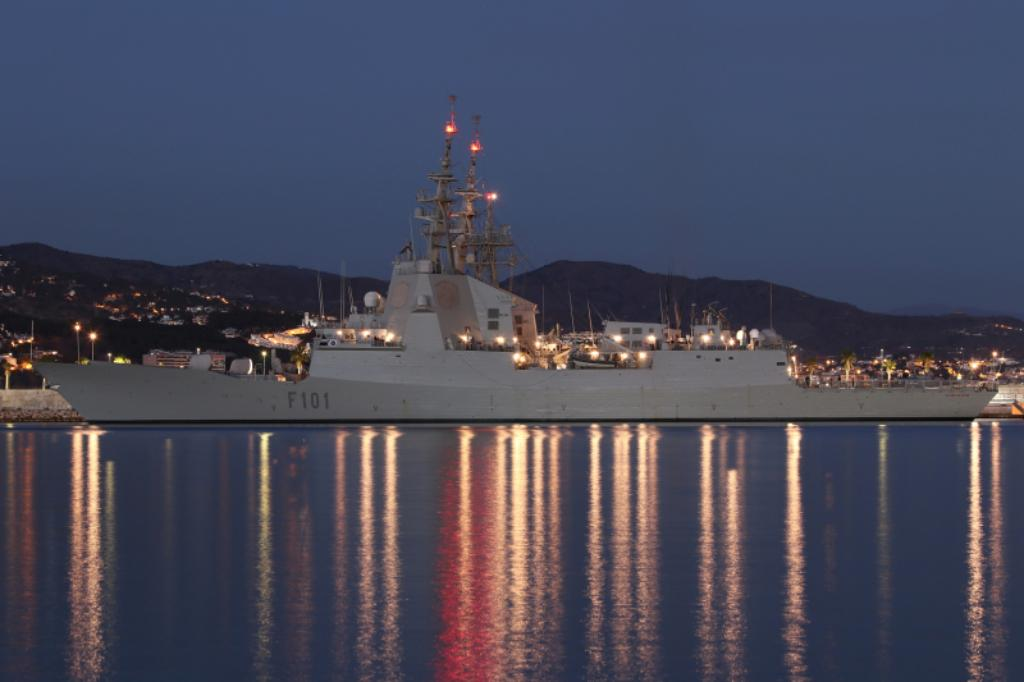Warship: (23, 89, 999, 429)
